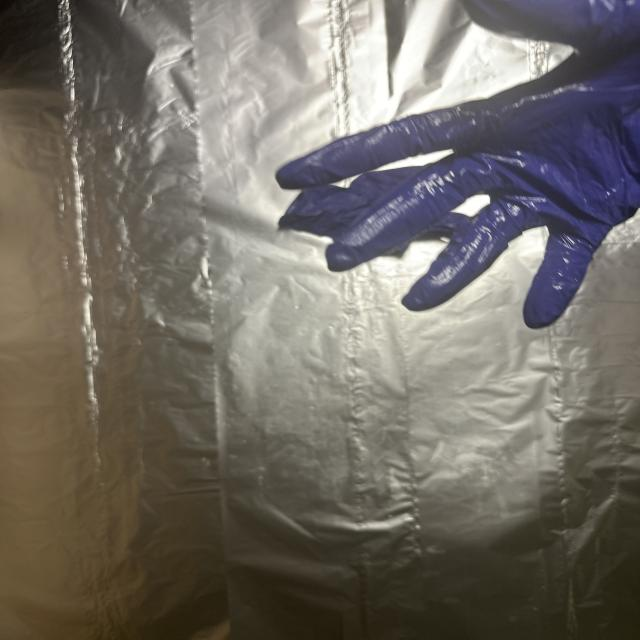gloves_contaminated: (276, 0, 640, 329)
